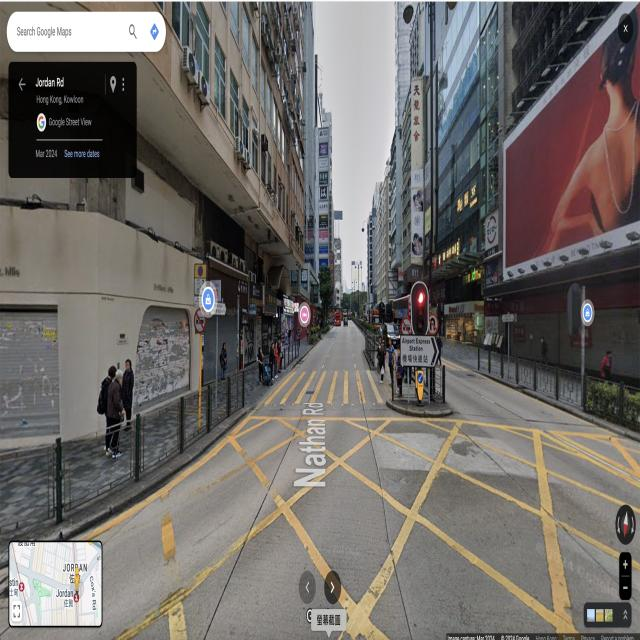Order-Sign: (194, 308, 205, 333), (402, 318, 412, 337), (429, 314, 437, 336), (418, 372, 422, 384)
